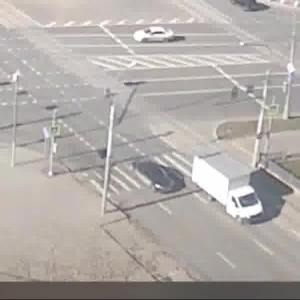car: (190, 157, 267, 226), (132, 154, 181, 198), (135, 26, 184, 48)
